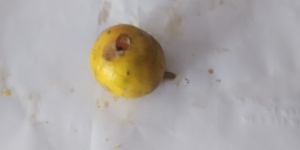BAD: (89, 22, 167, 99)
